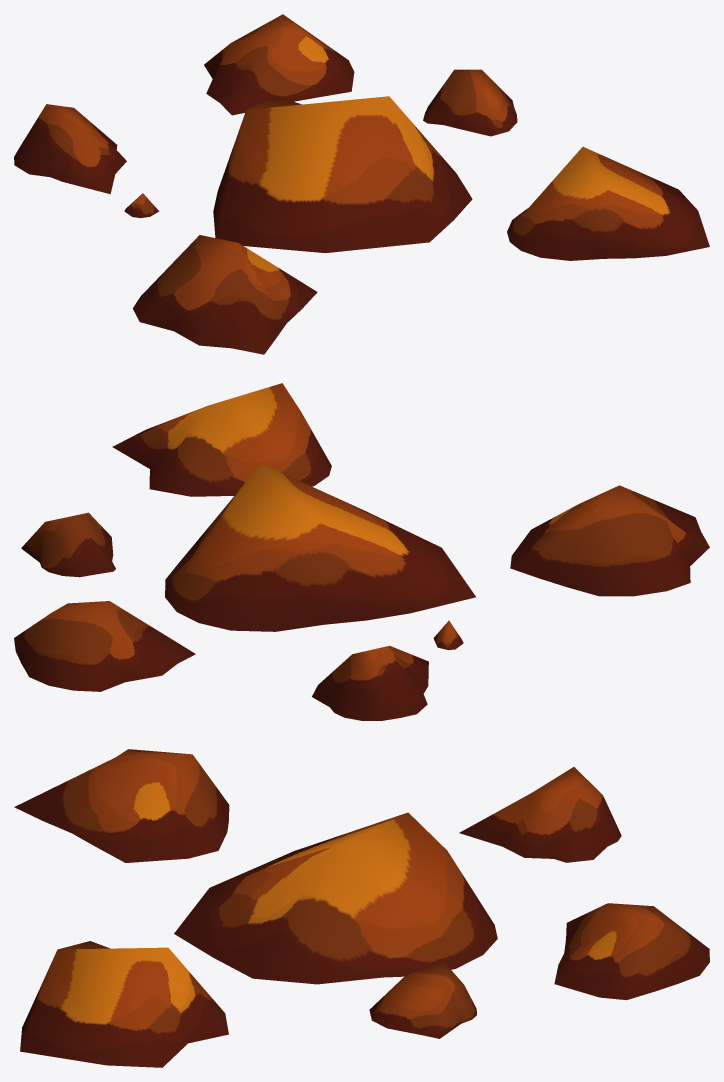
The model's file is Rock 2x 2 1_preview_3DS_simplified.glb.
The picture shows the model from 3 angles, top to bottom: view 1: azimuth 30°, elevation 25°; view 2: azimuth 150°, elevation 25°; view 3: azimuth 270°, elevation 25°; orthographic projection. The views are drawn at different scales.
Visible parts, largest first — view 1: Marine Park Empire model; view 2: Marine Park Empire model; view 3: Marine Park Empire model.
Part boxes in pixels (x1=…): Marine Park Empire model: x1=14, y1=14, x2=709, y2=354; Marine Park Empire model: x1=14, y1=383, x2=709, y2=720; Marine Park Empire model: x1=14, y1=749, x2=709, y2=1067.
Bounding box in the file's own units: 59.12 × 9.69 × 59.84.
Materials: 1 (1 with a texture image).
